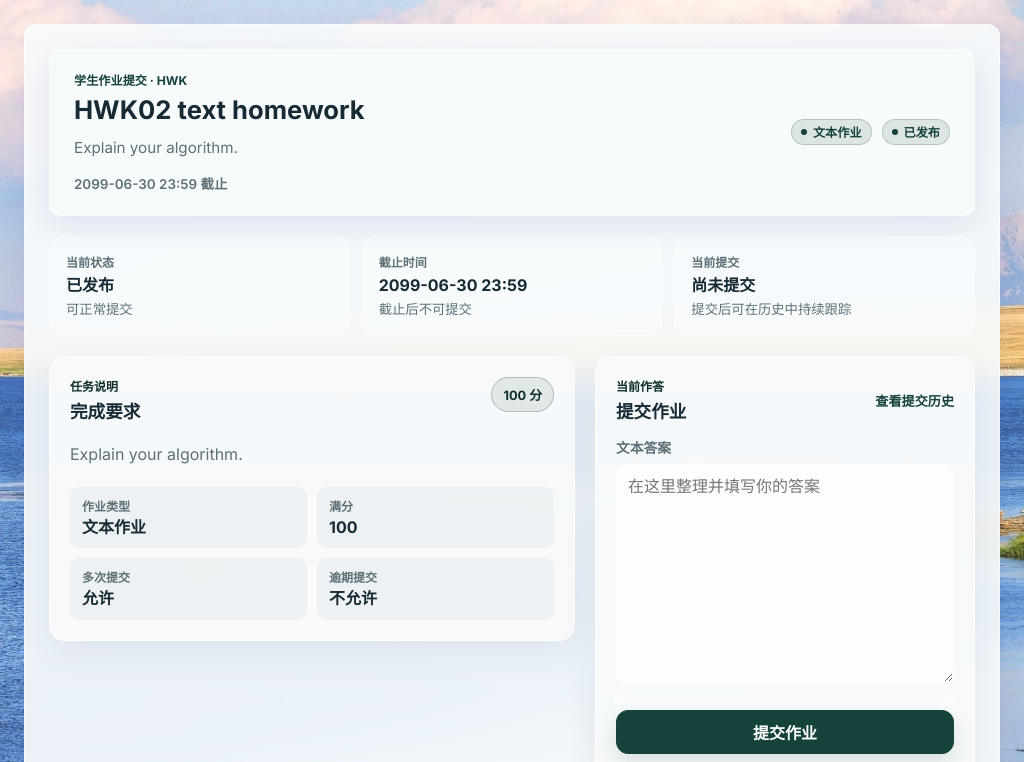
Test: HomeworkStudentView › loads published homework detail and submits a text answer
This screenshot has width=1024, height=762.
Expected: the text "TEXT" is not shown
Type "Use dynamic programming." into the text box named "answerText" at (785, 574), box [616, 464, 954, 683]
(page scrolled)
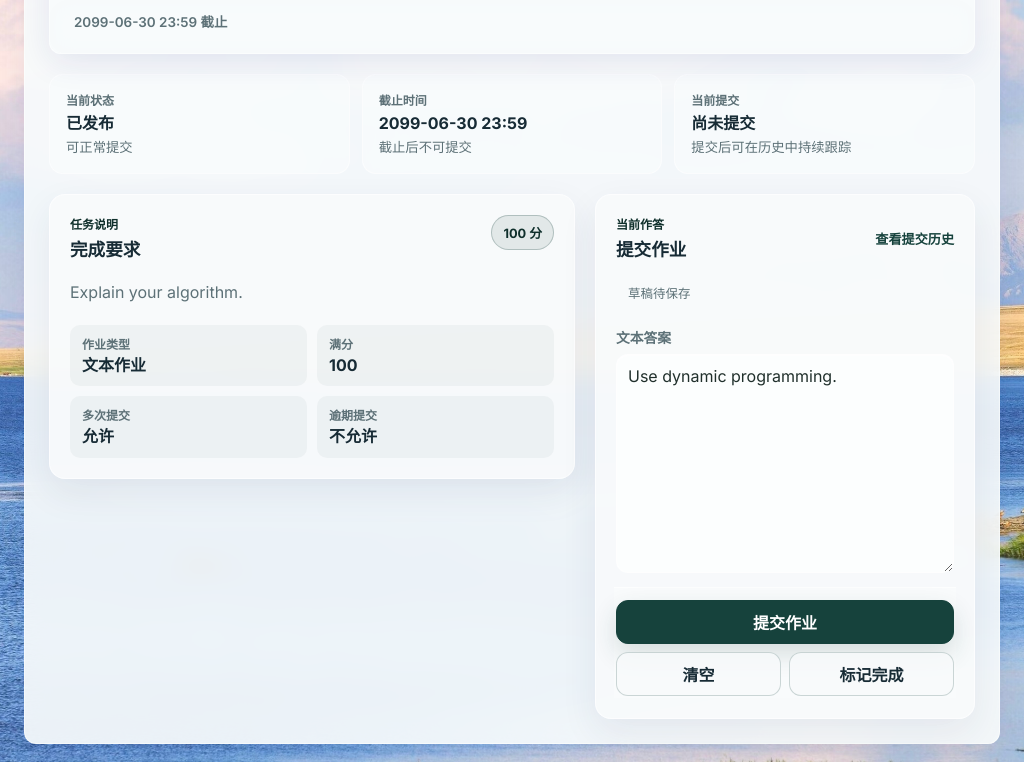
Submit the form, box [616, 328, 954, 698]
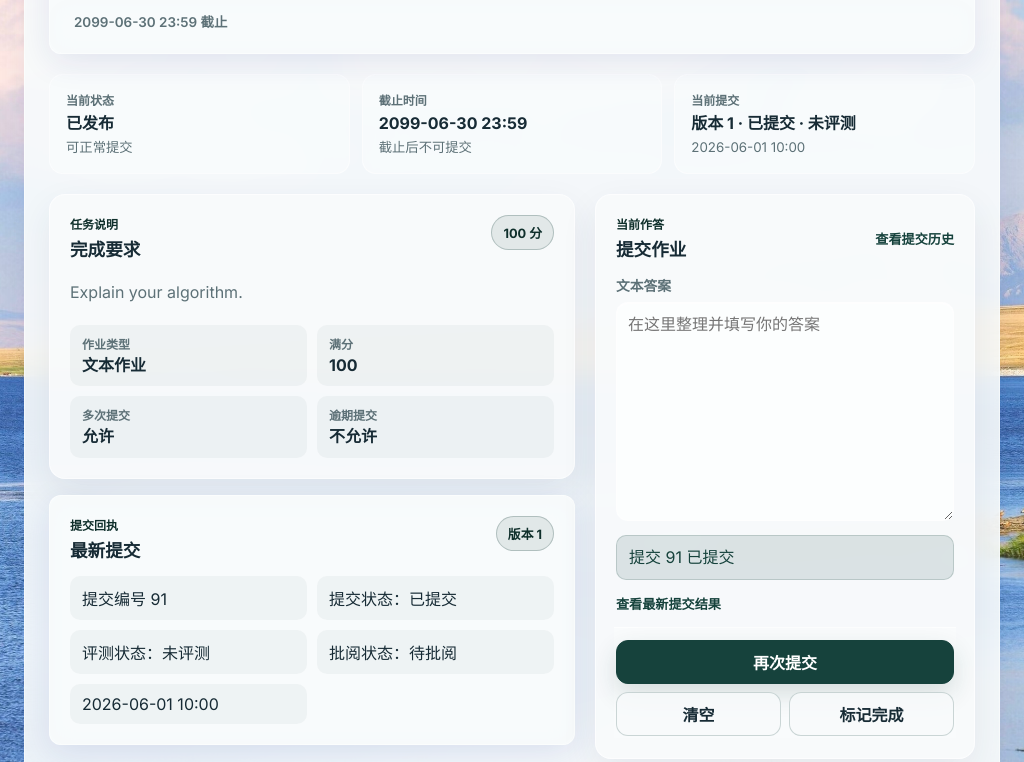
Expected: the text "提交编号 91" is shown, [70, 576, 307, 620]
Expected: the text "提交状态：已提交" is shown, [317, 576, 554, 620]
Expected: the text "评测状态：未评测" is shown, [70, 630, 307, 674]
